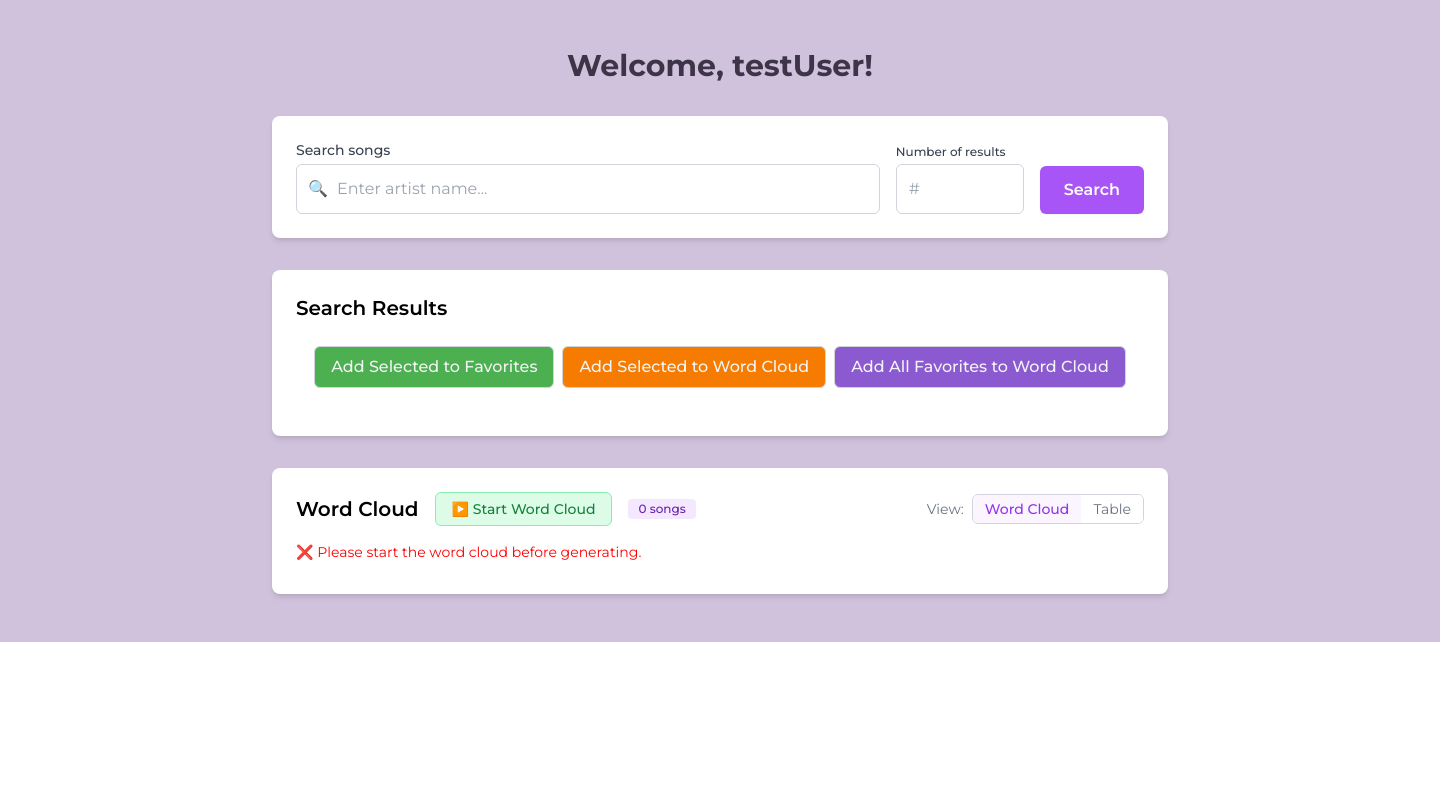
Dashboard › adds selected songs to favorites
The width and height of the screenshot is (1440, 798).
Step 1. Type "B" into the search field with placeholder "Enter artist name..." → (588, 189), box x1=296 y1=164 x2=880 y2=214
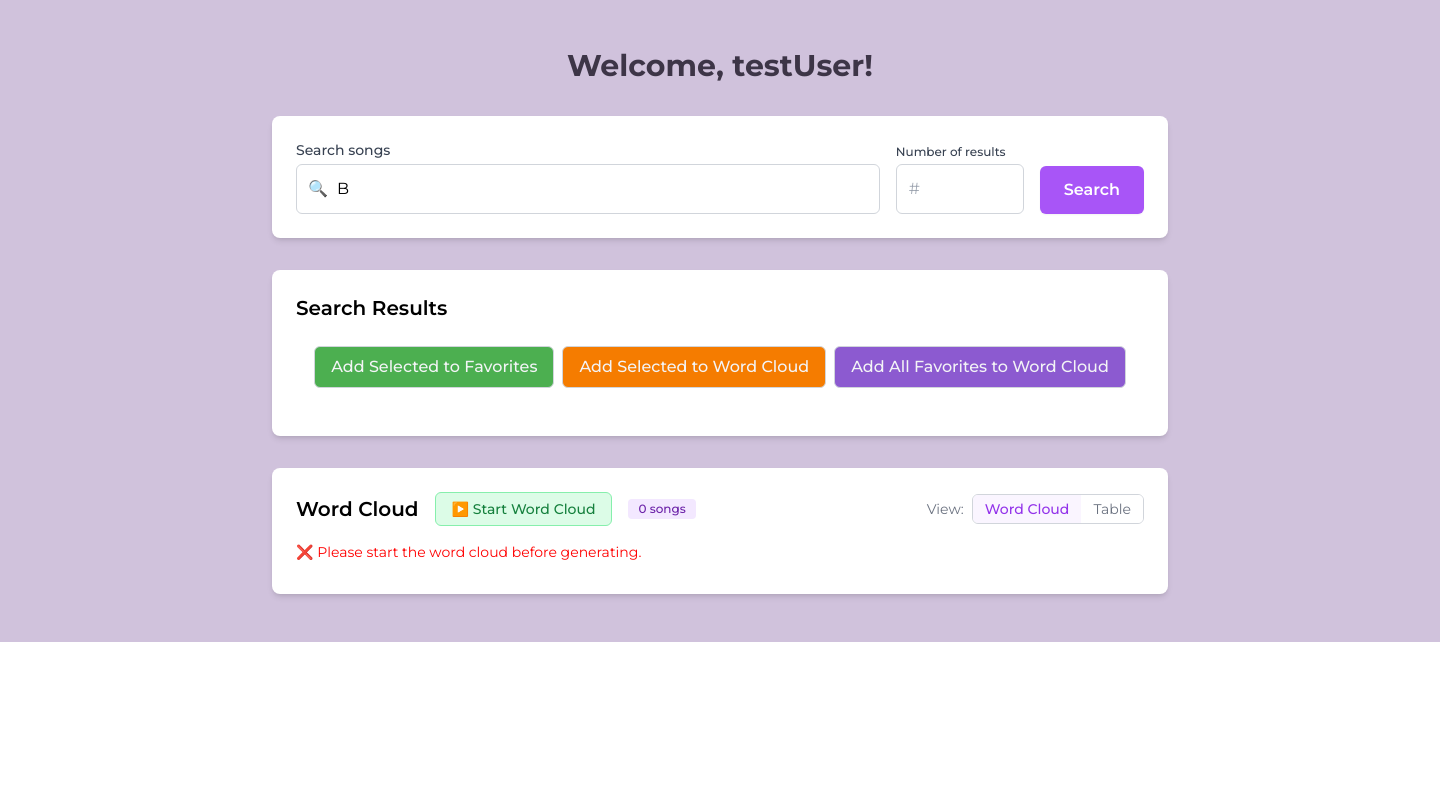
Step 2. Type "1" into the number field with placeholder "#" → (960, 189), box x1=896 y1=164 x2=1024 y2=214
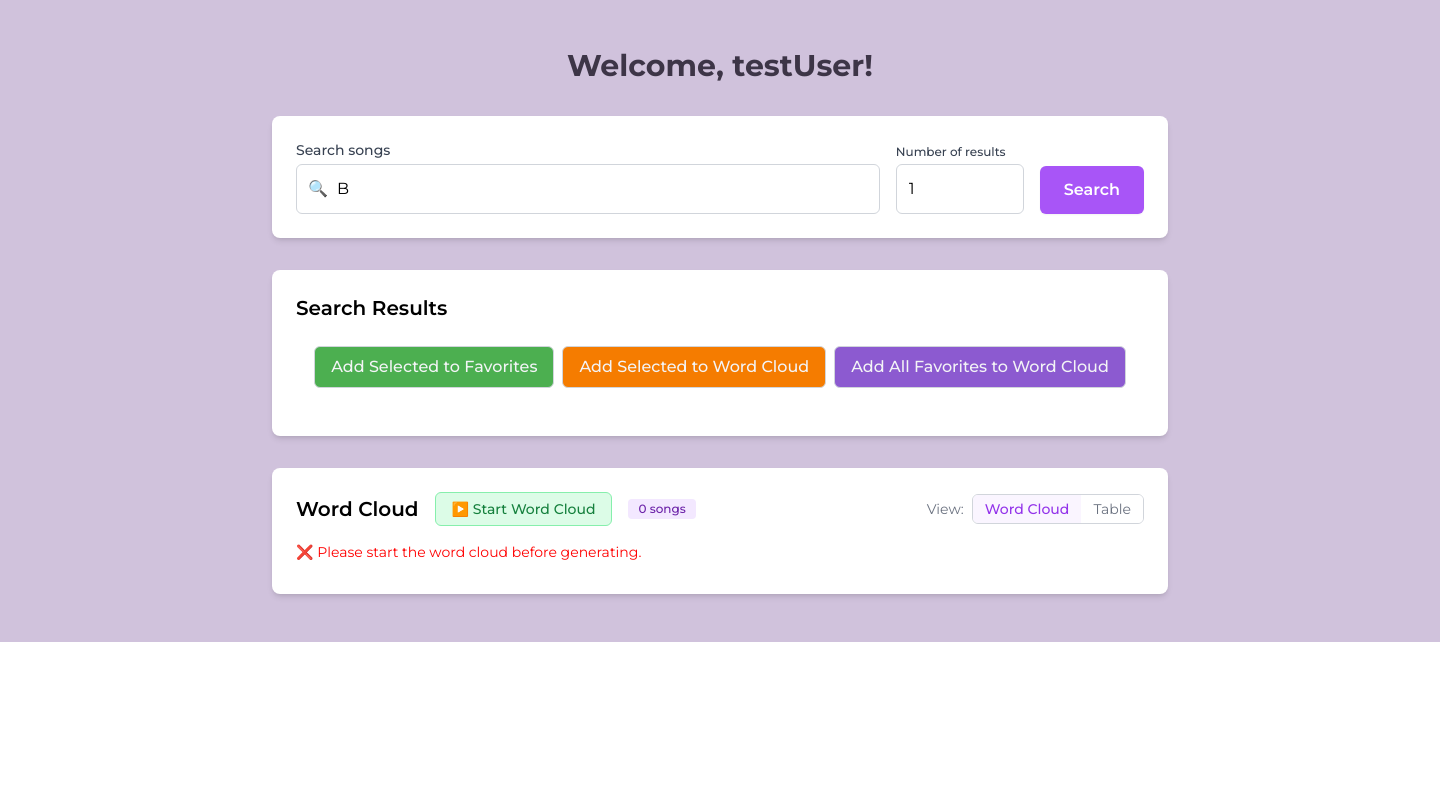
Step 3. Click the button "Search" → (1092, 190), box x1=1040 y1=166 x2=1144 y2=214
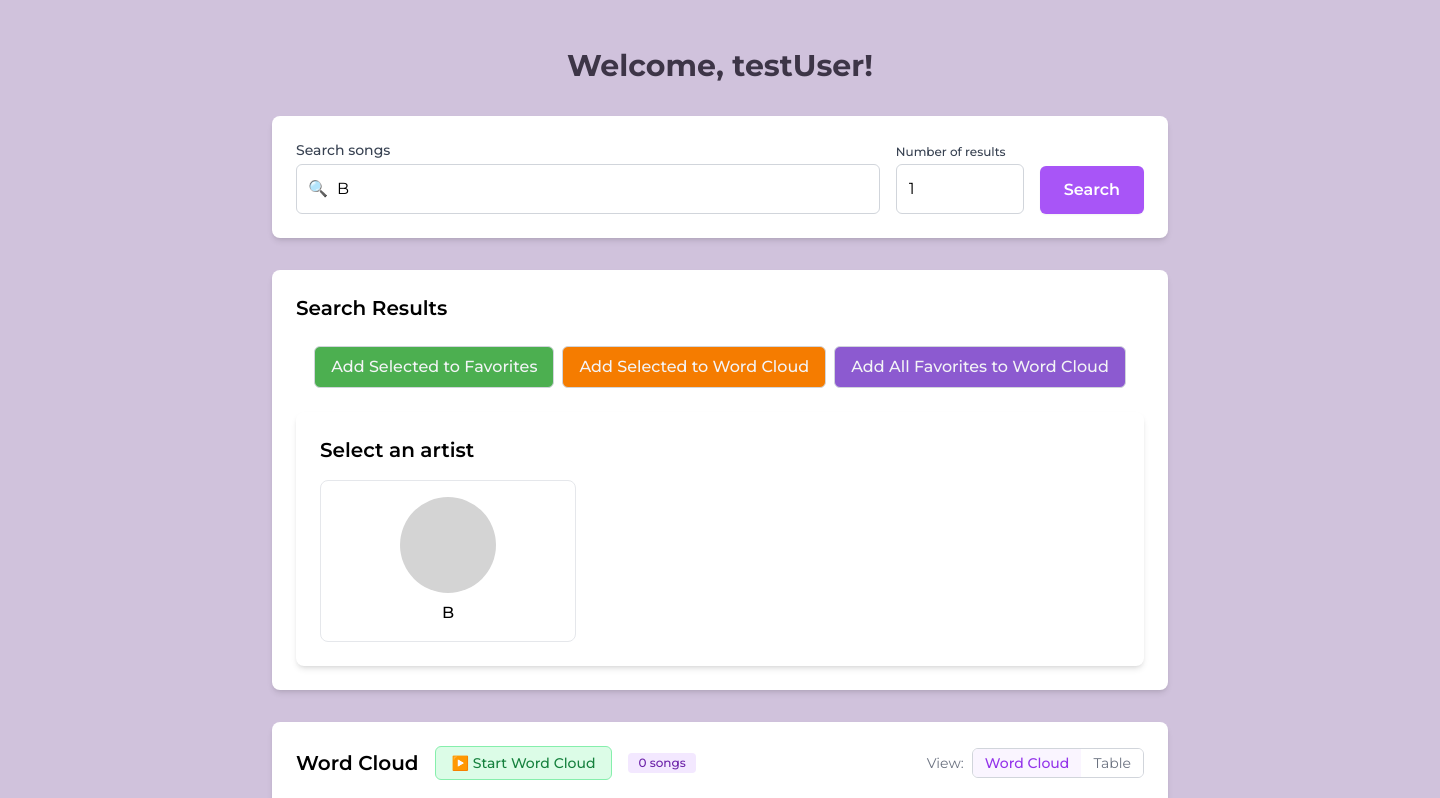
Check: the button named "select artist B" is shown
Step 4. Click the button named "select artist B" → (448, 561), box x1=320 y1=480 x2=576 y2=642
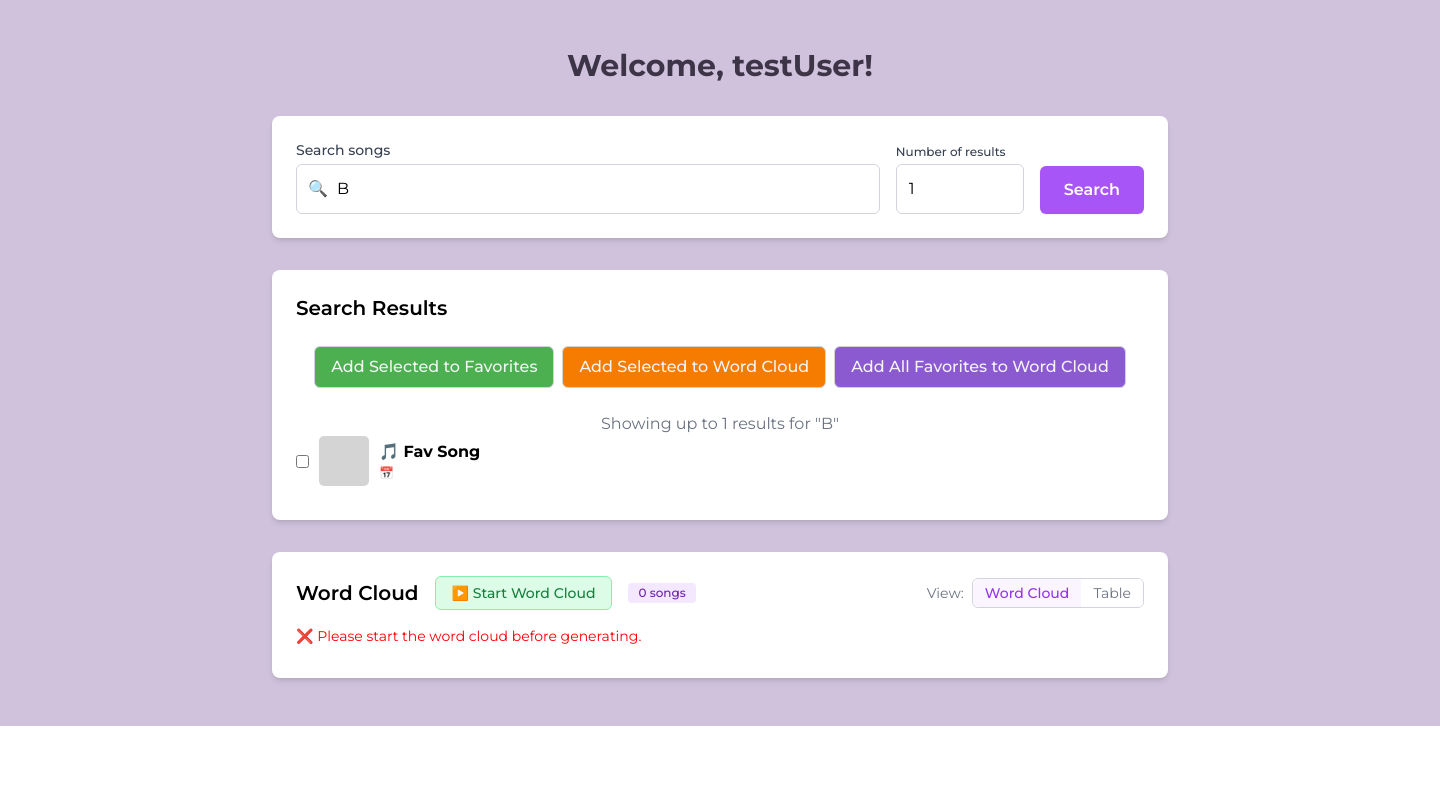
Check: the text "🎵 Fav Song" is shown, box x1=379 y1=440 x2=480 y2=464
Step 5. Click the checkbox → (302, 461), box x1=296 y1=454 x2=309 y2=468
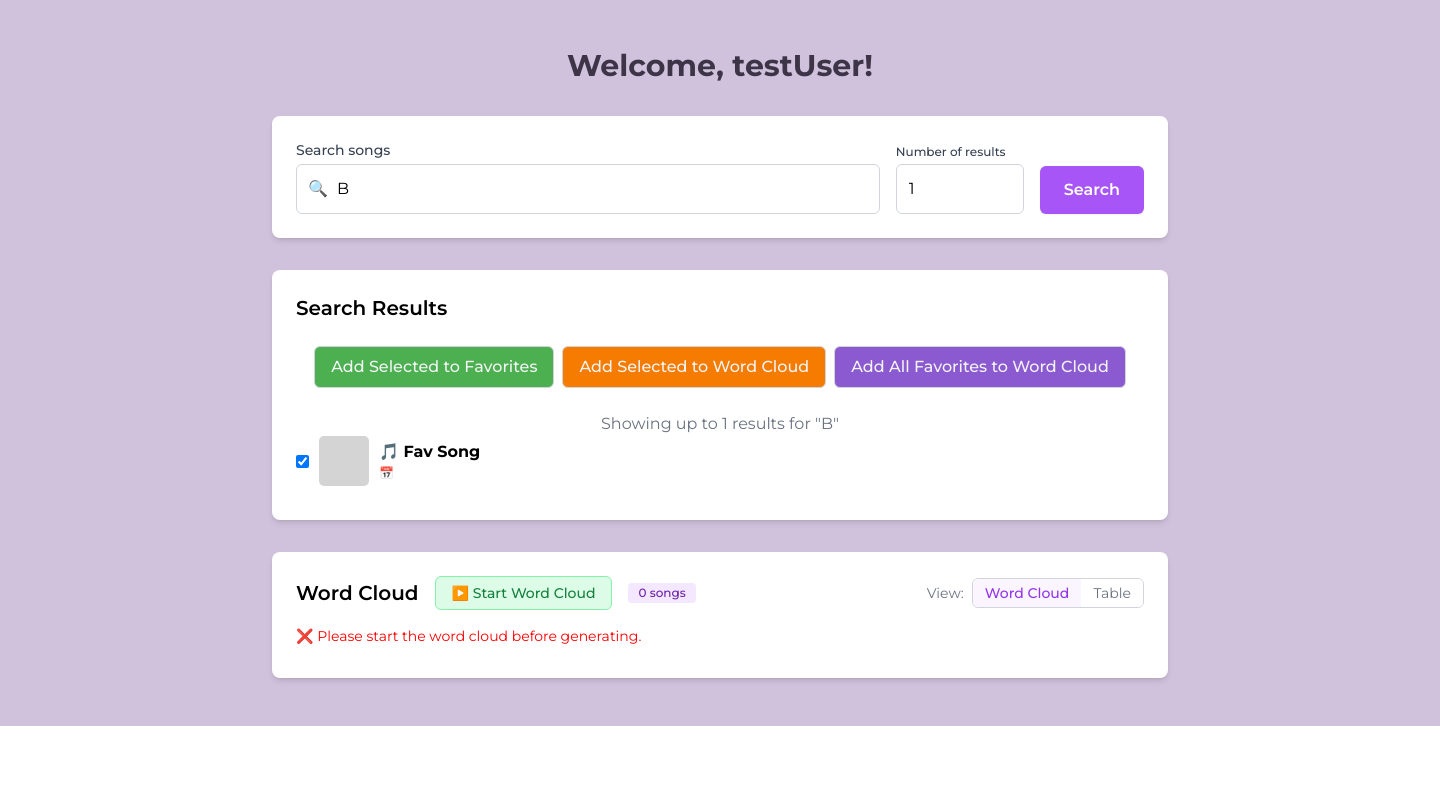
Step 6. Click the button "Add Selected to Favorites" → (434, 367), box x1=314 y1=346 x2=554 y2=388
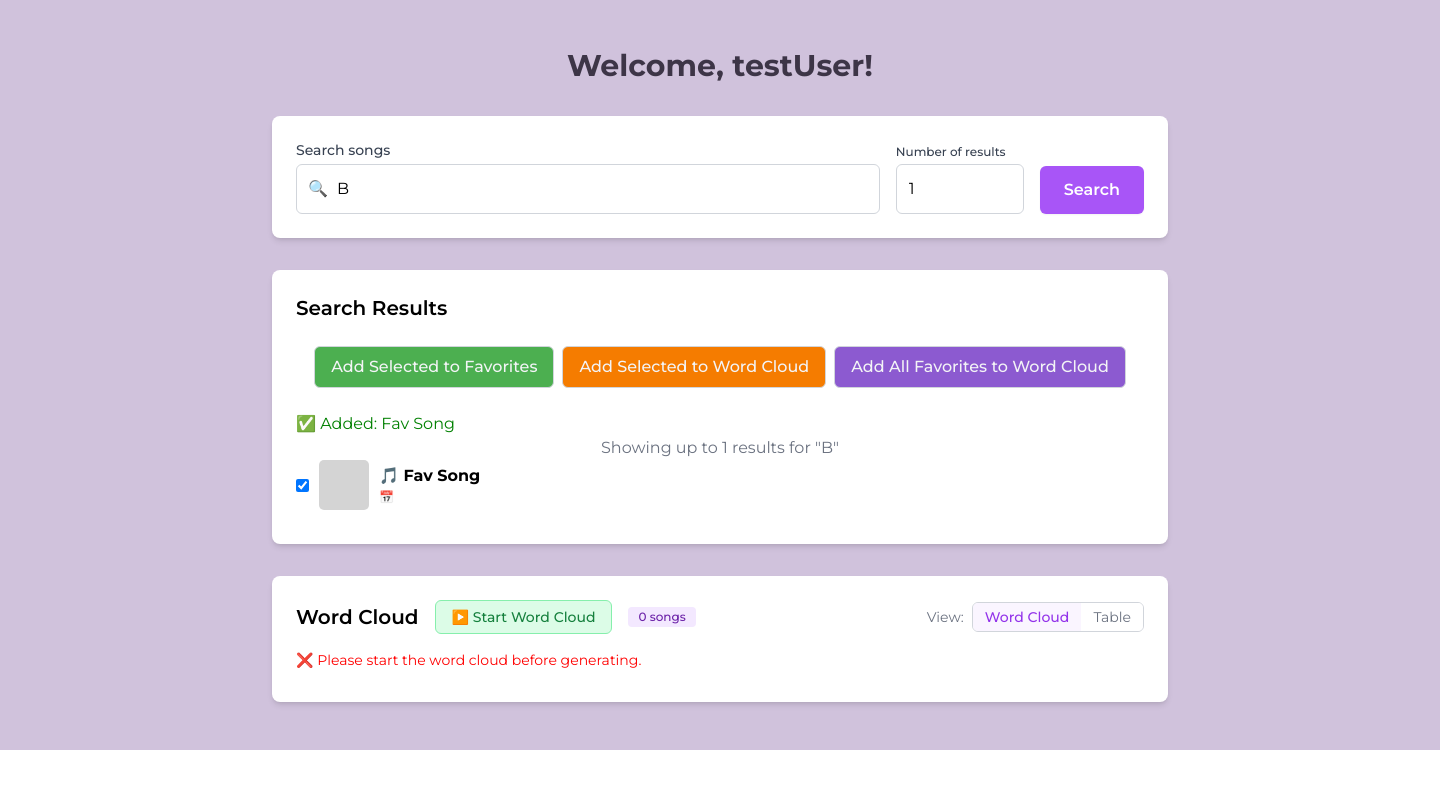
Check: the text "✅ Added: Fav Song" is shown, box x1=296 y1=414 x2=455 y2=433
